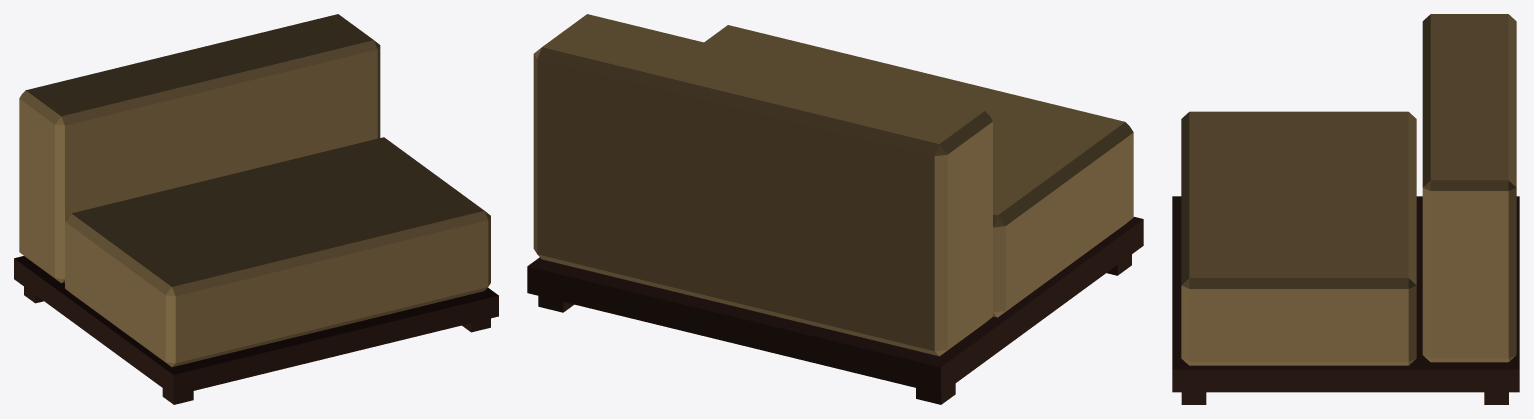
The model's file is Sofa 1.fbx.
3 views of the same model, side by side, from view 1: azimuth 30°, elevation 25°; view 2: azimuth 150°, elevation 25°; view 3: azimuth 270°, elevation 25° (orthographic). The views are drawn at different scales.
Visible parts, largest first — view 1: Node 0; view 2: Node 0; view 3: Node 0.
Part boxes in pixels (x1,y1,x2,y2): Node 0: (14, 14, 498, 404); Node 0: (527, 14, 1143, 404); Node 0: (1172, 14, 1519, 404).
Bounding box in the file's own units: 1.03 × 0.7322 × 1.22.
